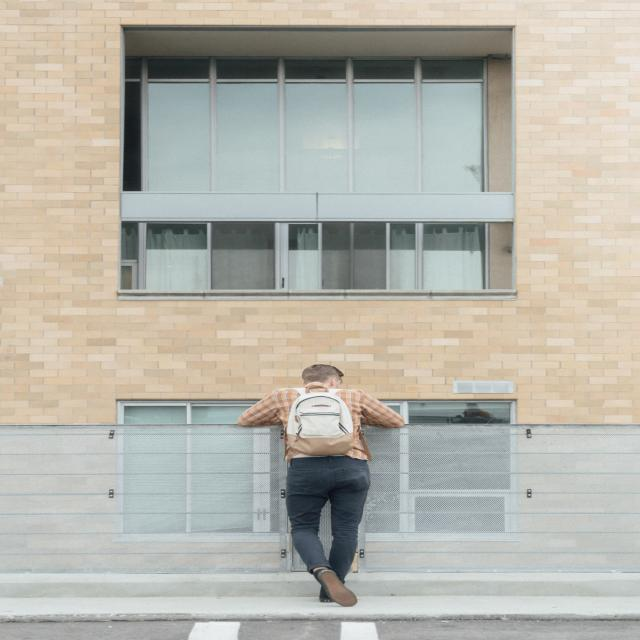backpack: (267, 384, 362, 456)
